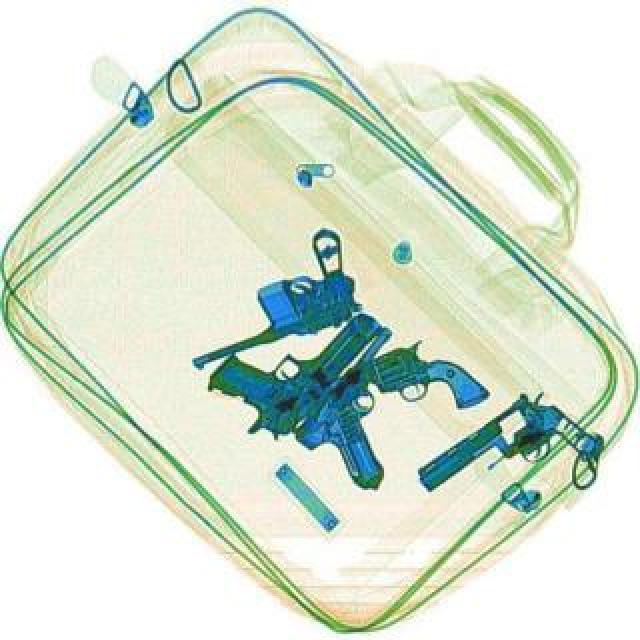gun: (258, 320, 494, 480), (196, 264, 388, 452), (160, 222, 376, 374), (286, 318, 470, 494), (414, 378, 608, 542)
